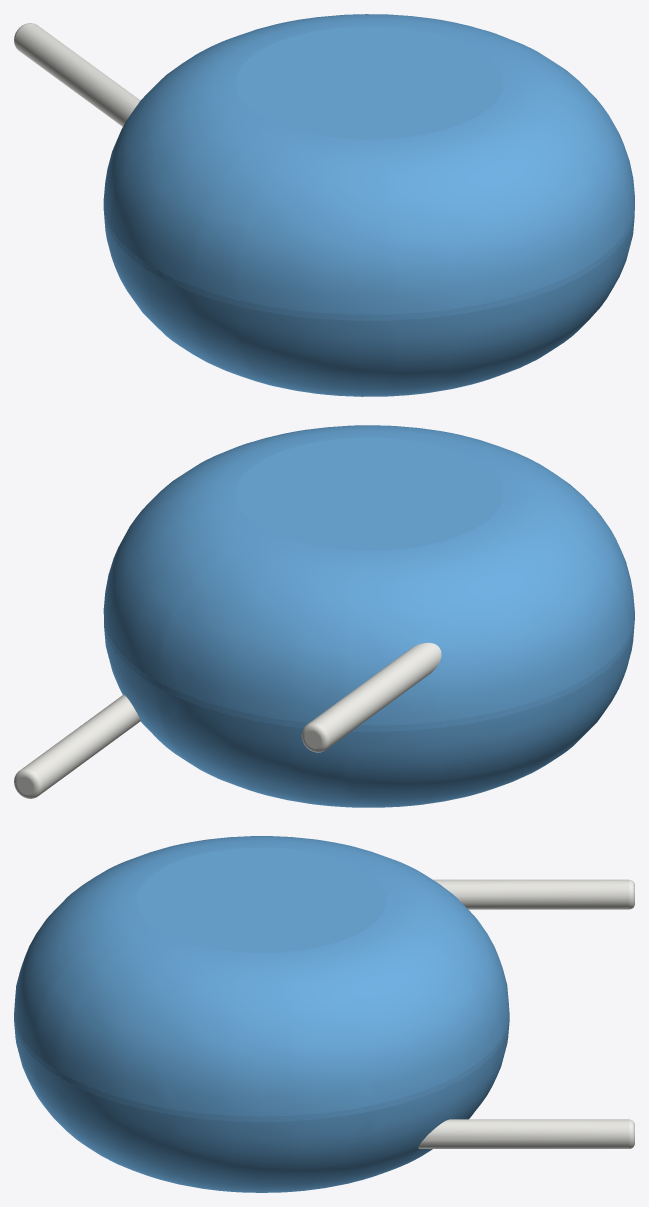
Rendered from RV_Disc_D12mm_W6.1mm_P7.5mm.glb.
The picture shows the model from 3 angles, top to bottom: view 1: azimuth 30°, elevation 25°; view 2: azimuth 150°, elevation 25°; view 3: azimuth 270°, elevation 25°; orthographic projection. The views are drawn at different scales.
Visible parts, largest first — view 1: Shape_IndexedFaceSet.001, Shape_IndexedFaceSet.002, Shape_IndexedFaceSet.003, Shape_IndexedFaceSet.004, Shape_IndexedFaceSet; view 2: Shape_IndexedFaceSet.001, Shape_IndexedFaceSet.002, Shape_IndexedFaceSet.003, Shape_IndexedFaceSet.004, Shape_IndexedFaceSet.006, Shape_IndexedFaceSet; view 3: Shape_IndexedFaceSet.001, Shape_IndexedFaceSet.002, Shape_IndexedFaceSet.003, Shape_IndexedFaceSet.006, Shape_IndexedFaceSet.004, Shape_IndexedFaceSet.
Part boxes in pixels (left/top/right/bottom): Shape_IndexedFaceSet.001: left=103, top=14, right=634, bottom=314; Shape_IndexedFaceSet.002: left=103, top=210, right=634, bottom=396; Shape_IndexedFaceSet.003: left=235, top=26, right=503, bottom=139; Shape_IndexedFaceSet.004: left=15, top=23, right=140, bottom=126; Shape_IndexedFaceSet: left=103, top=204, right=634, bottom=320; Shape_IndexedFaceSet.001: left=104, top=425, right=634, bottom=725; Shape_IndexedFaceSet.002: left=104, top=620, right=634, bottom=807; Shape_IndexedFaceSet.003: left=235, top=437, right=502, bottom=550; Shape_IndexedFaceSet.004: left=309, top=642, right=441, bottom=748; Shape_IndexedFaceSet.006: left=21, top=694, right=140, bottom=794; Shape_IndexedFaceSet: left=103, top=608, right=634, bottom=731; Shape_IndexedFaceSet.001: left=14, top=836, right=509, bottom=1116; Shape_IndexedFaceSet.002: left=14, top=1021, right=509, bottom=1192; Shape_IndexedFaceSet.003: left=137, top=847, right=386, bottom=952; Shape_IndexedFaceSet.006: left=418, top=1119, right=628, bottom=1148; Shape_IndexedFaceSet.004: left=433, top=879, right=628, bottom=909; Shape_IndexedFaceSet: left=14, top=1016, right=509, bottom=1121.
Bounding box in the file's own units: 4.72 × 2.4 × 5.92.
